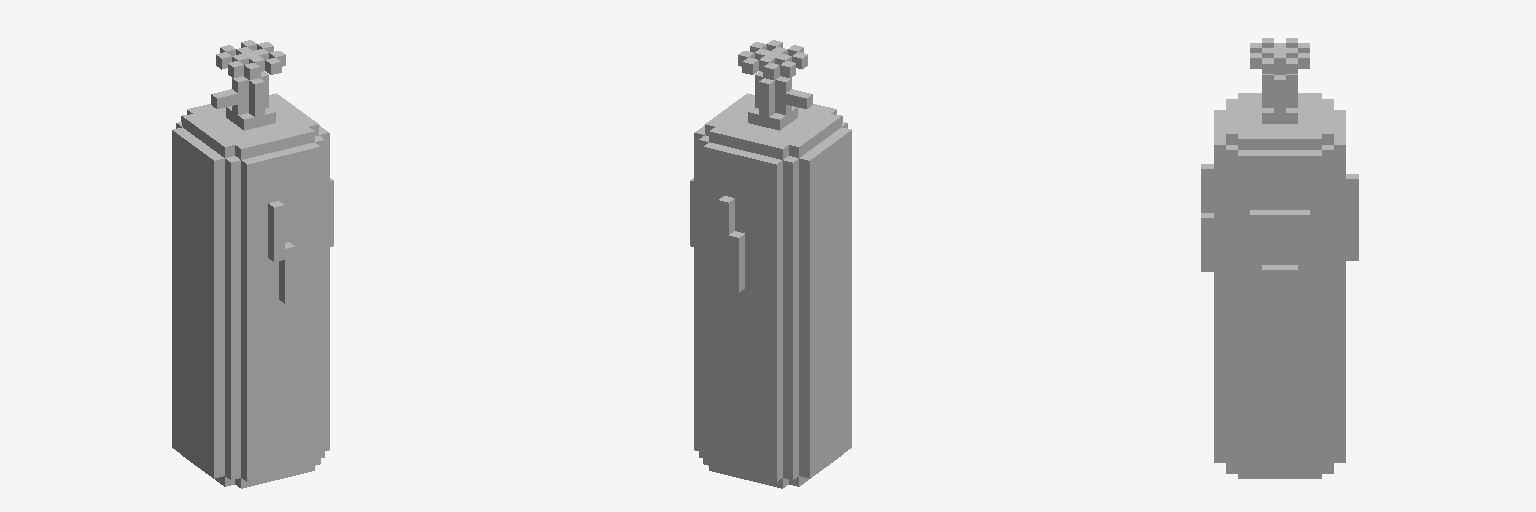
File: Nitro.obj
The picture shows the model from 3 angles: view 1: azimuth 30°, elevation 25°; view 2: azimuth 150°, elevation 25°; view 3: azimuth 270°, elevation 25°; orthographic projection.
Visible parts, largest first — view 1: object 1; view 2: object 1; view 3: object 1.
Boxes of the visible parts, x1,y1,x2,y2 form: object 1: [172, 40, 333, 488]; object 1: [690, 40, 851, 488]; object 1: [1201, 38, 1358, 478].
Size of the model in its own units: 1.2 by 3.7 by 1.3.